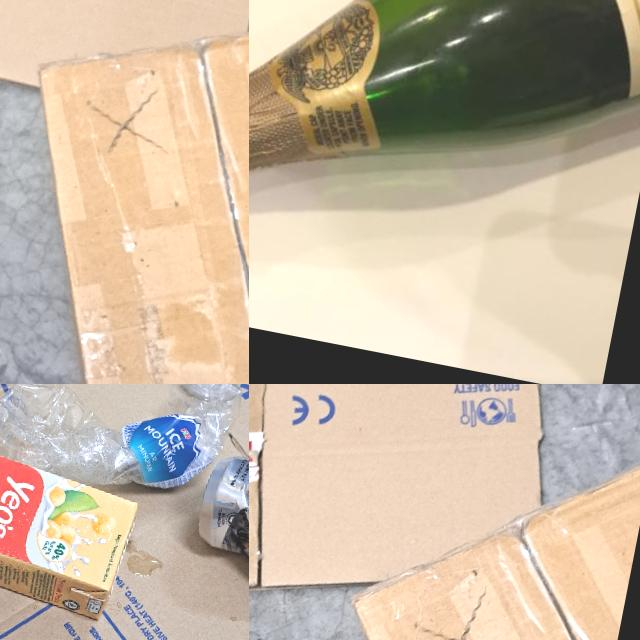caixinha: (0, 417, 144, 623)
garrafa de vidro: (249, 0, 640, 307)
garrafa plástica: (0, 384, 247, 503)
lata: (180, 448, 249, 636)
papelão: (0, 0, 249, 384), (249, 384, 588, 640), (311, 408, 640, 640), (0, 384, 249, 640), (0, 0, 249, 125)
